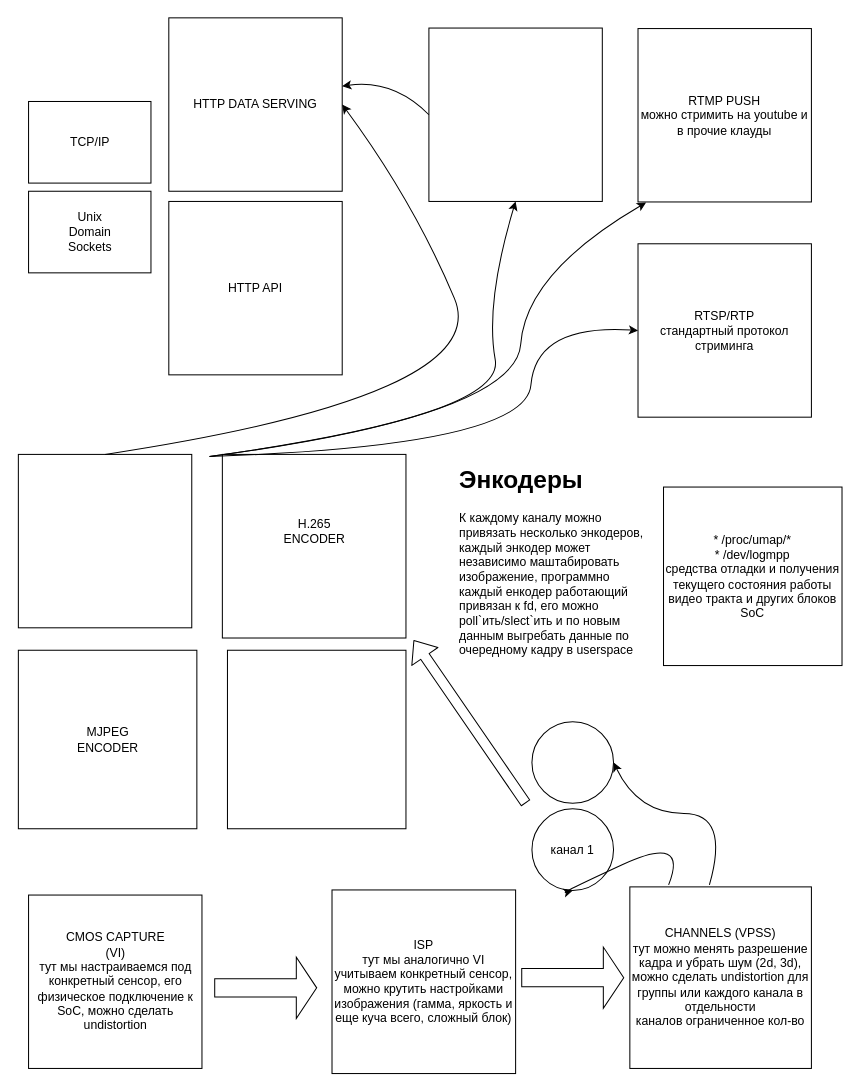
Some shapes in this 860 by 1091 pixel diagram are drawn without their labels. Here are the shapes that lost their labels. From the top down, the centre of each, then its label:
At [515,114]: "HLS".
At [104,540]: "JPEG ENCODER".
At [316,739]: "H.264 ENCODER".
At [572,762]: "канал N".
